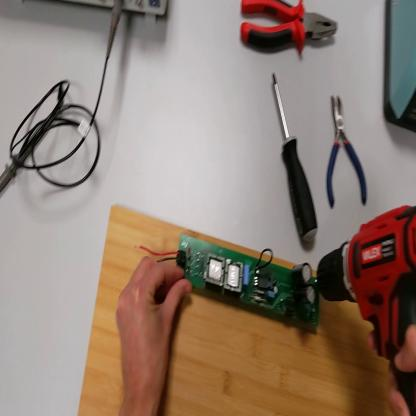electric screwdriver: (321, 204, 416, 413)
hand: (116, 256, 191, 400), (368, 318, 416, 416)
high voltage board: (136, 235, 318, 336)
oscilloscope: (48, 2, 169, 23)
oscilloscope probe tip: (2, 91, 67, 193)
pliers: (241, 3, 340, 58), (325, 92, 367, 207)
screwdriver-: (272, 75, 319, 244)
welder station: (387, 2, 416, 132)
working area: (78, 207, 388, 416)
